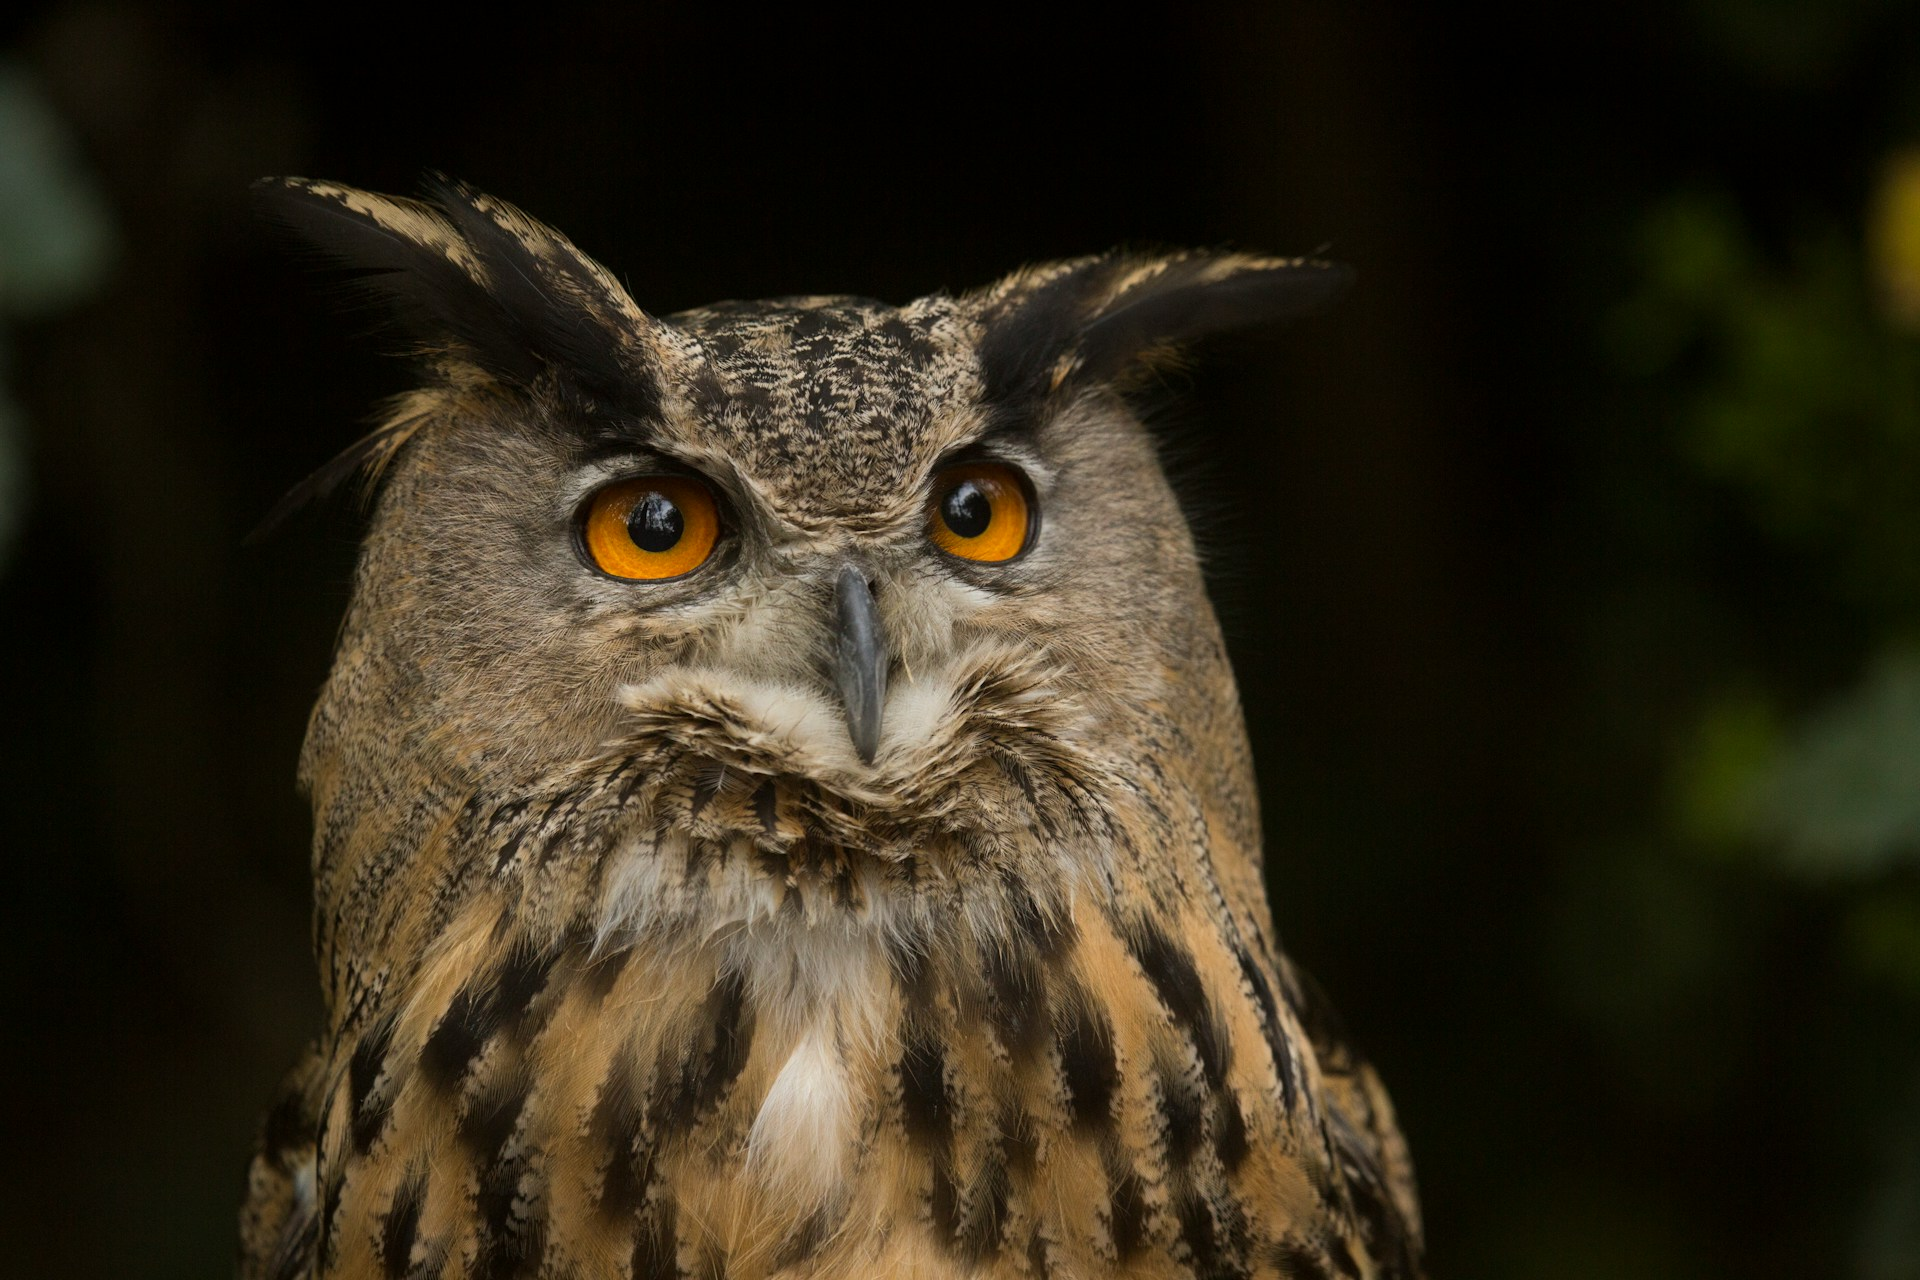owl: (199, 134, 1469, 1280)
